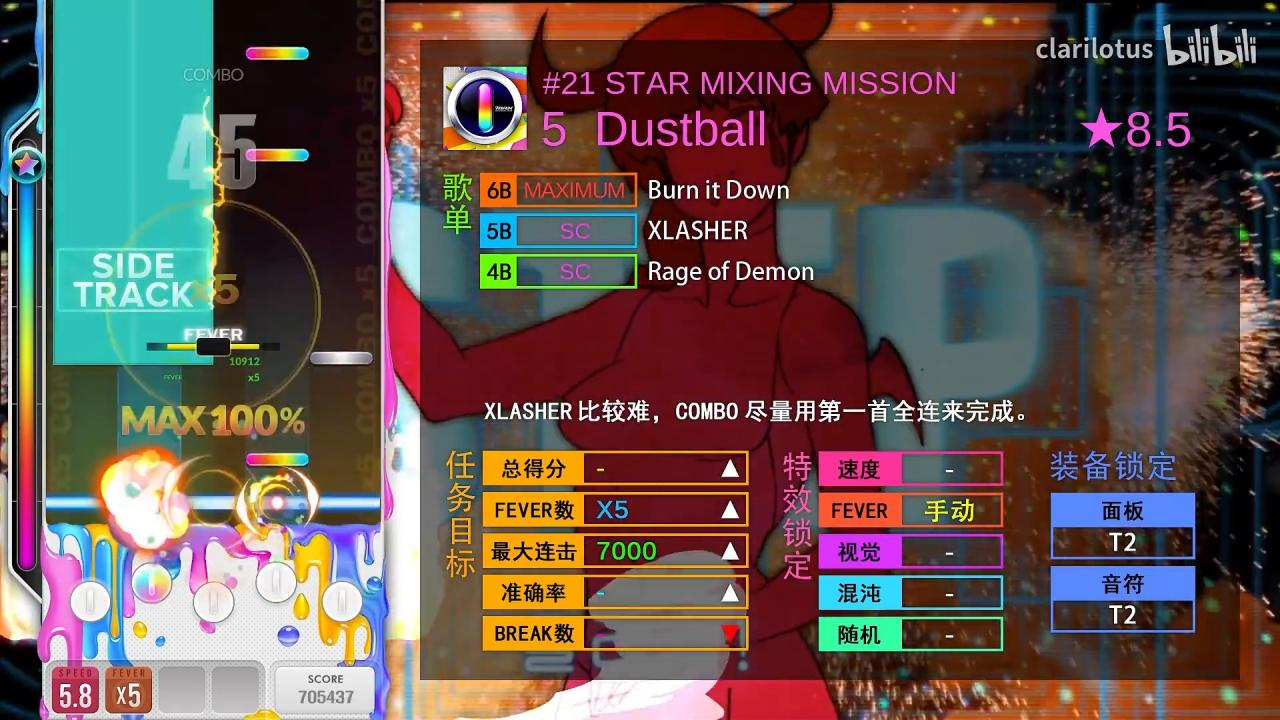note: (309, 352, 373, 366), (246, 453, 309, 467), (246, 47, 309, 60), (246, 149, 308, 162)
side-start: (52, 350, 214, 364)
